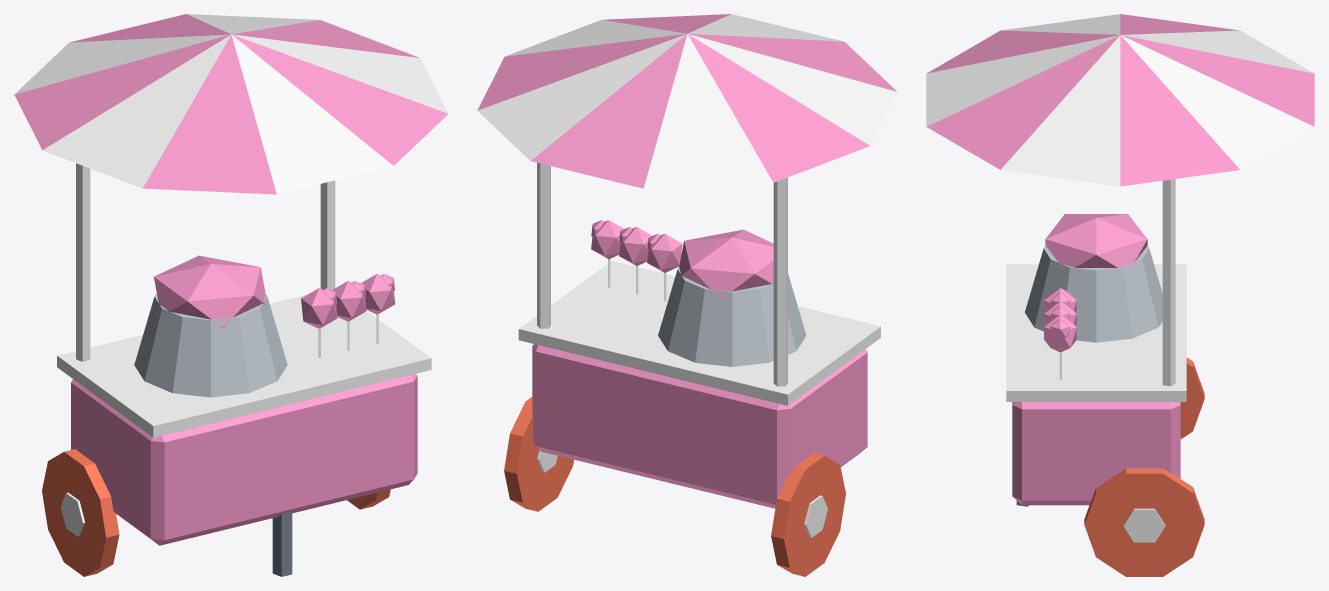
File: station_cotton_candy.glb
3 views of the same model, side by side, from view 1: azimuth 30°, elevation 25°; view 2: azimuth 150°, elevation 25°; view 3: azimuth 270°, elevation 25° (orthographic). The views are drawn at different scales.
Parts seen in each view (by area): view 1: station_cotton_candy; view 2: station_cotton_candy; view 3: station_cotton_candy.
Part boxes in pixels (bbox=[...]): station_cotton_candy: bbox=[14, 14, 448, 576]; station_cotton_candy: bbox=[477, 14, 897, 576]; station_cotton_candy: bbox=[926, 14, 1314, 576].
Size of the model in its own units: 1.7 by 2.19 by 1.62.
